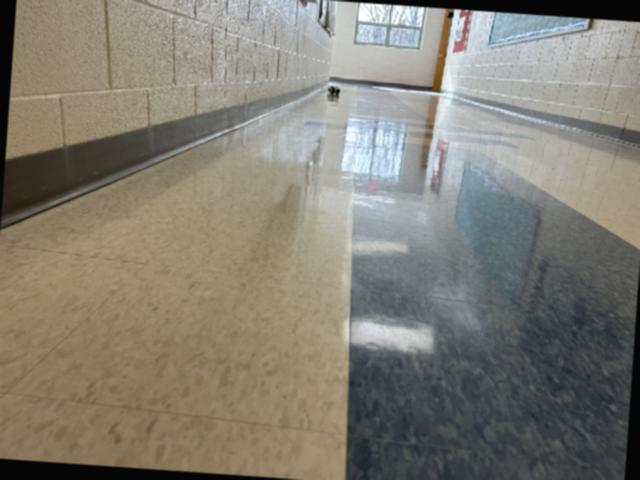panda_plushie: (328, 86, 340, 94)
